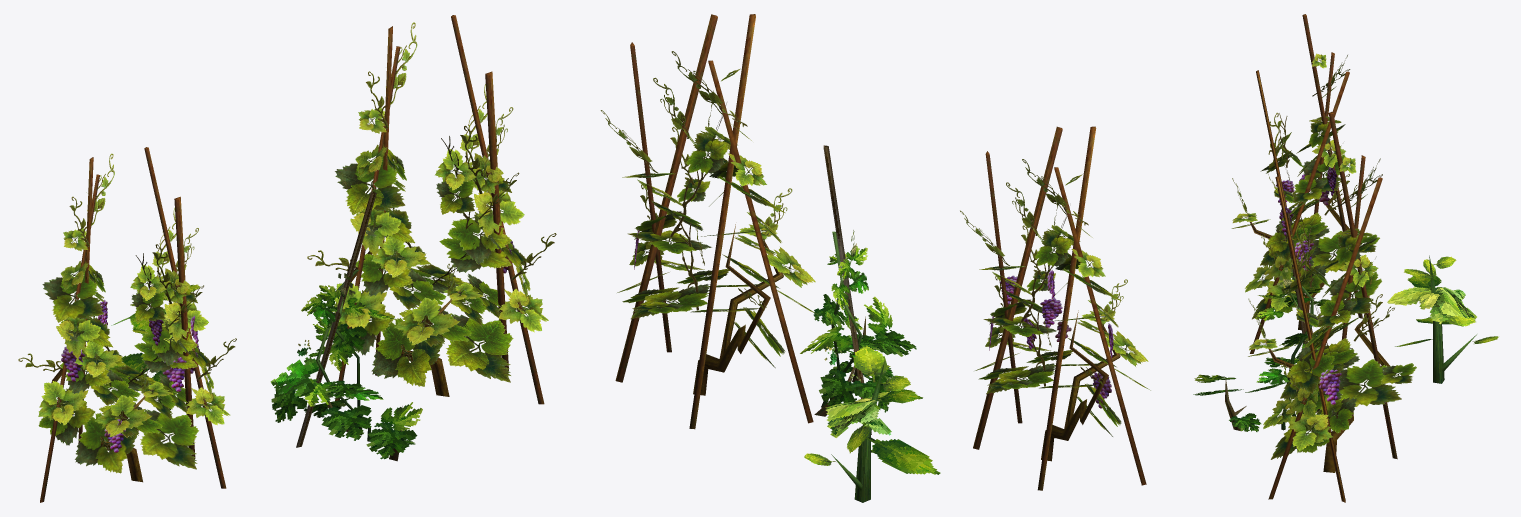
Rendered from JJS_CD_ShuCai.FBX.
The picture shows the model from 3 angles, left to right: view 1: azimuth 30°, elevation 25°; view 2: azimuth 150°, elevation 25°; view 3: azimuth 270°, elevation 25°; orthographic projection. The views are drawn at different scales.
Visible parts, largest first — view 1: JJS_CD_ShuCai02, JJS_CD_ShuCai01, JJS_CD_ShuCai03, JJS_CD_ShuCai04; view 2: JJS_CD_ShuCai02, JJS_CD_ShuCai01, JJS_CD_ShuCai03, JJS_CD_ShuCai04; view 3: JJS_CD_ShuCai02, JJS_CD_ShuCai01, JJS_CD_ShuCai04, JJS_CD_ShuCai03.
Part boxes in pixels (box(x1,y1,x2,y2)): JJS_CD_ShuCai02: box(307, 15, 556, 404); JJS_CD_ShuCai01: box(18, 147, 236, 502); JJS_CD_ShuCai03: box(270, 191, 422, 461); JJS_CD_ShuCai04: box(103, 279, 200, 409); JJS_CD_ShuCai02: box(600, 14, 817, 429); JJS_CD_ShuCai01: box(960, 126, 1150, 490); JJS_CD_ShuCai03: box(800, 145, 916, 434); JJS_CD_ShuCai04: box(804, 345, 940, 502); JJS_CD_ShuCai02: box(1248, 112, 1416, 502); JJS_CD_ShuCai01: box(1231, 14, 1379, 353); JJS_CD_ShuCai04: box(1387, 255, 1498, 383); JJS_CD_ShuCai03: box(1193, 213, 1352, 431).
Size of the model in its own units: 278 by 199 by 168.
